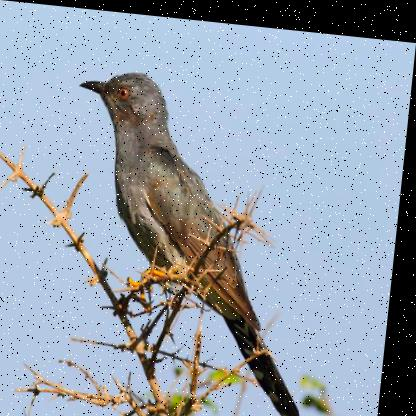Burung: (55, 64, 341, 415)
